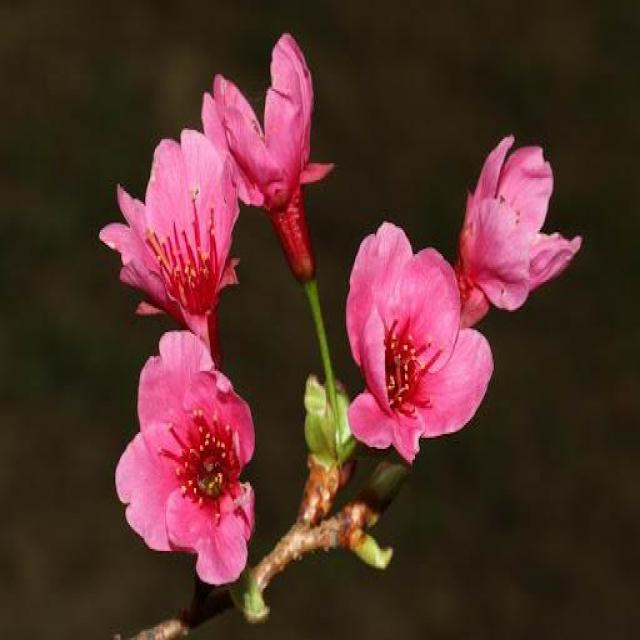organic waste: (340, 224, 498, 472), (193, 20, 341, 279), (114, 328, 261, 582), (444, 124, 594, 334), (106, 118, 244, 312)
